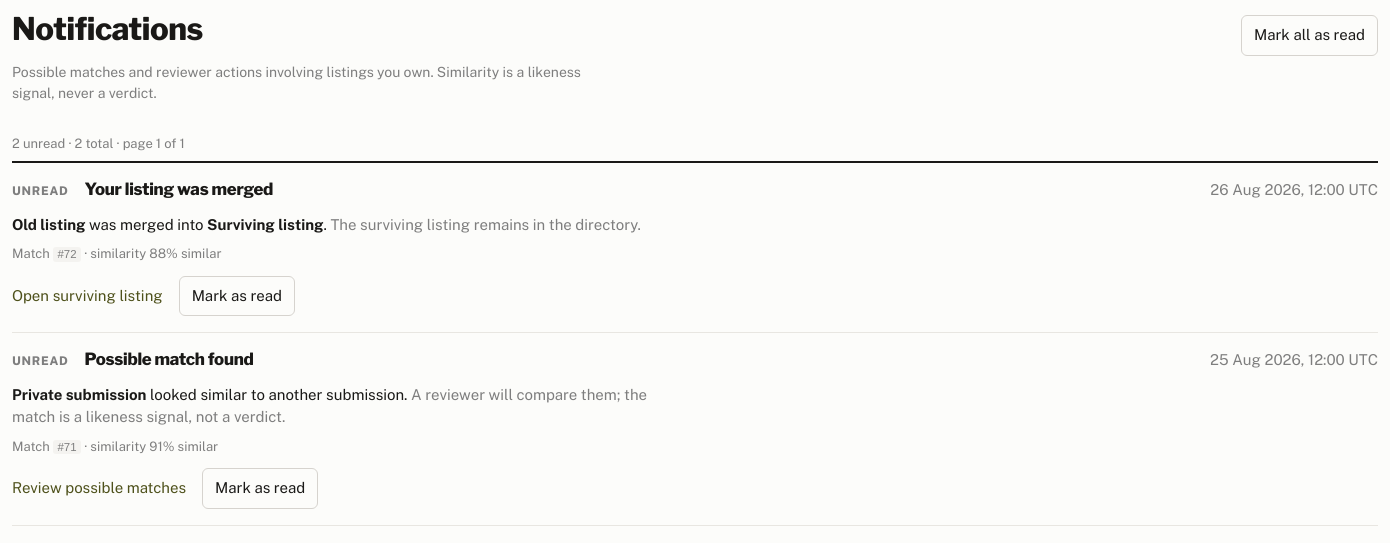
Test: the notification inbox › marks one notification read and refreshes the unread count
Click the button "Mark as read" next to "Open surviving listing".
click(237, 296)  # box [179,276,295,316]
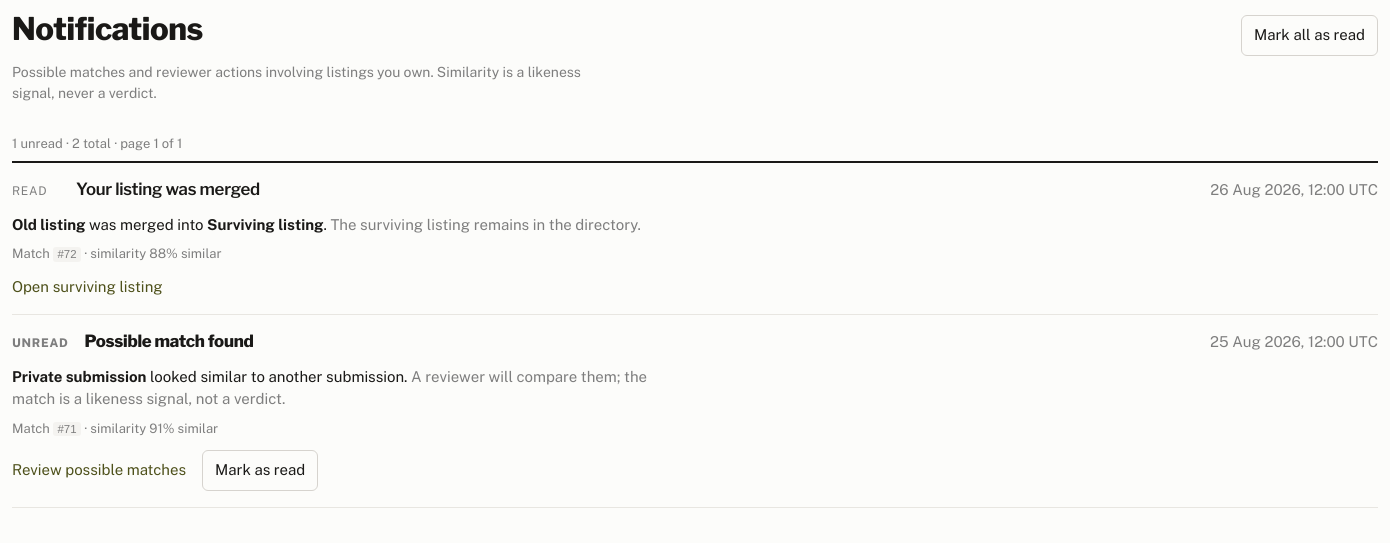
Expected: the text "Unread" is shown once, [12,334,68,352]
Now the text "1 unread · 2 total · page 1 of 1" is shown, box [12,136,182,151]
